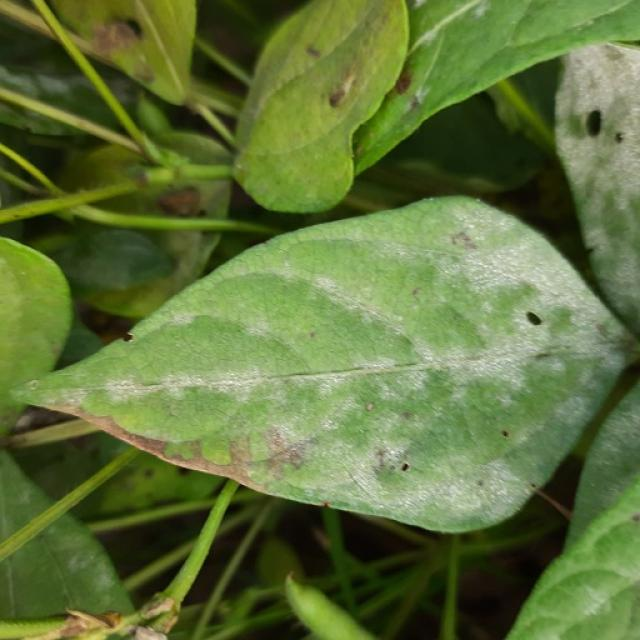Blackgram: (19, 198, 631, 532)
Powdery_Mildew: (550, 42, 640, 121), (353, 466, 492, 517), (535, 254, 609, 343), (103, 372, 269, 406), (424, 345, 549, 384), (478, 245, 554, 289), (285, 267, 354, 310), (445, 199, 500, 238), (235, 313, 282, 341), (304, 370, 353, 394)
